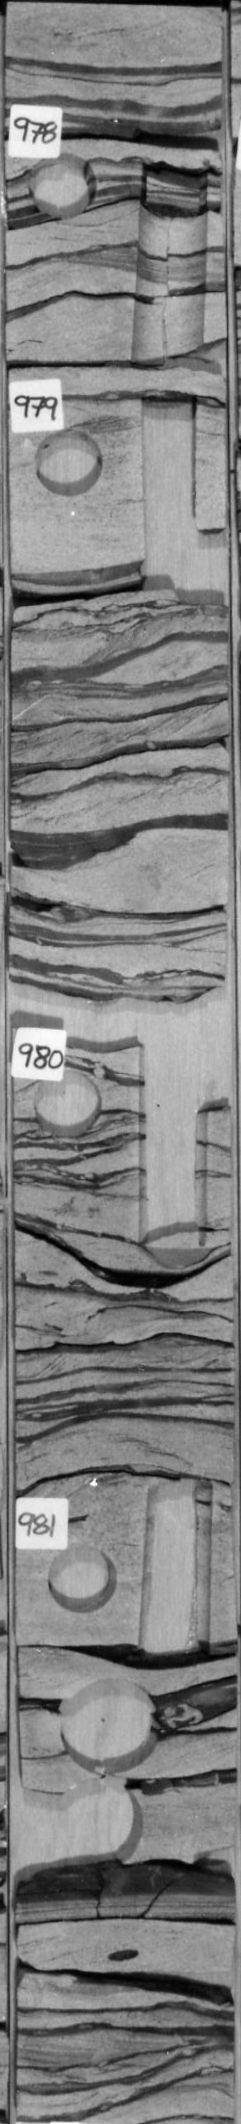hplug: (24, 1061, 108, 1145), (28, 423, 110, 498), (41, 1543, 121, 1617), (23, 149, 99, 221)
scal: (54, 1673, 167, 1775), (49, 1780, 149, 1869)
vplug: (130, 152, 217, 360), (130, 1044, 214, 1256), (134, 1472, 223, 1662), (130, 382, 204, 597)
